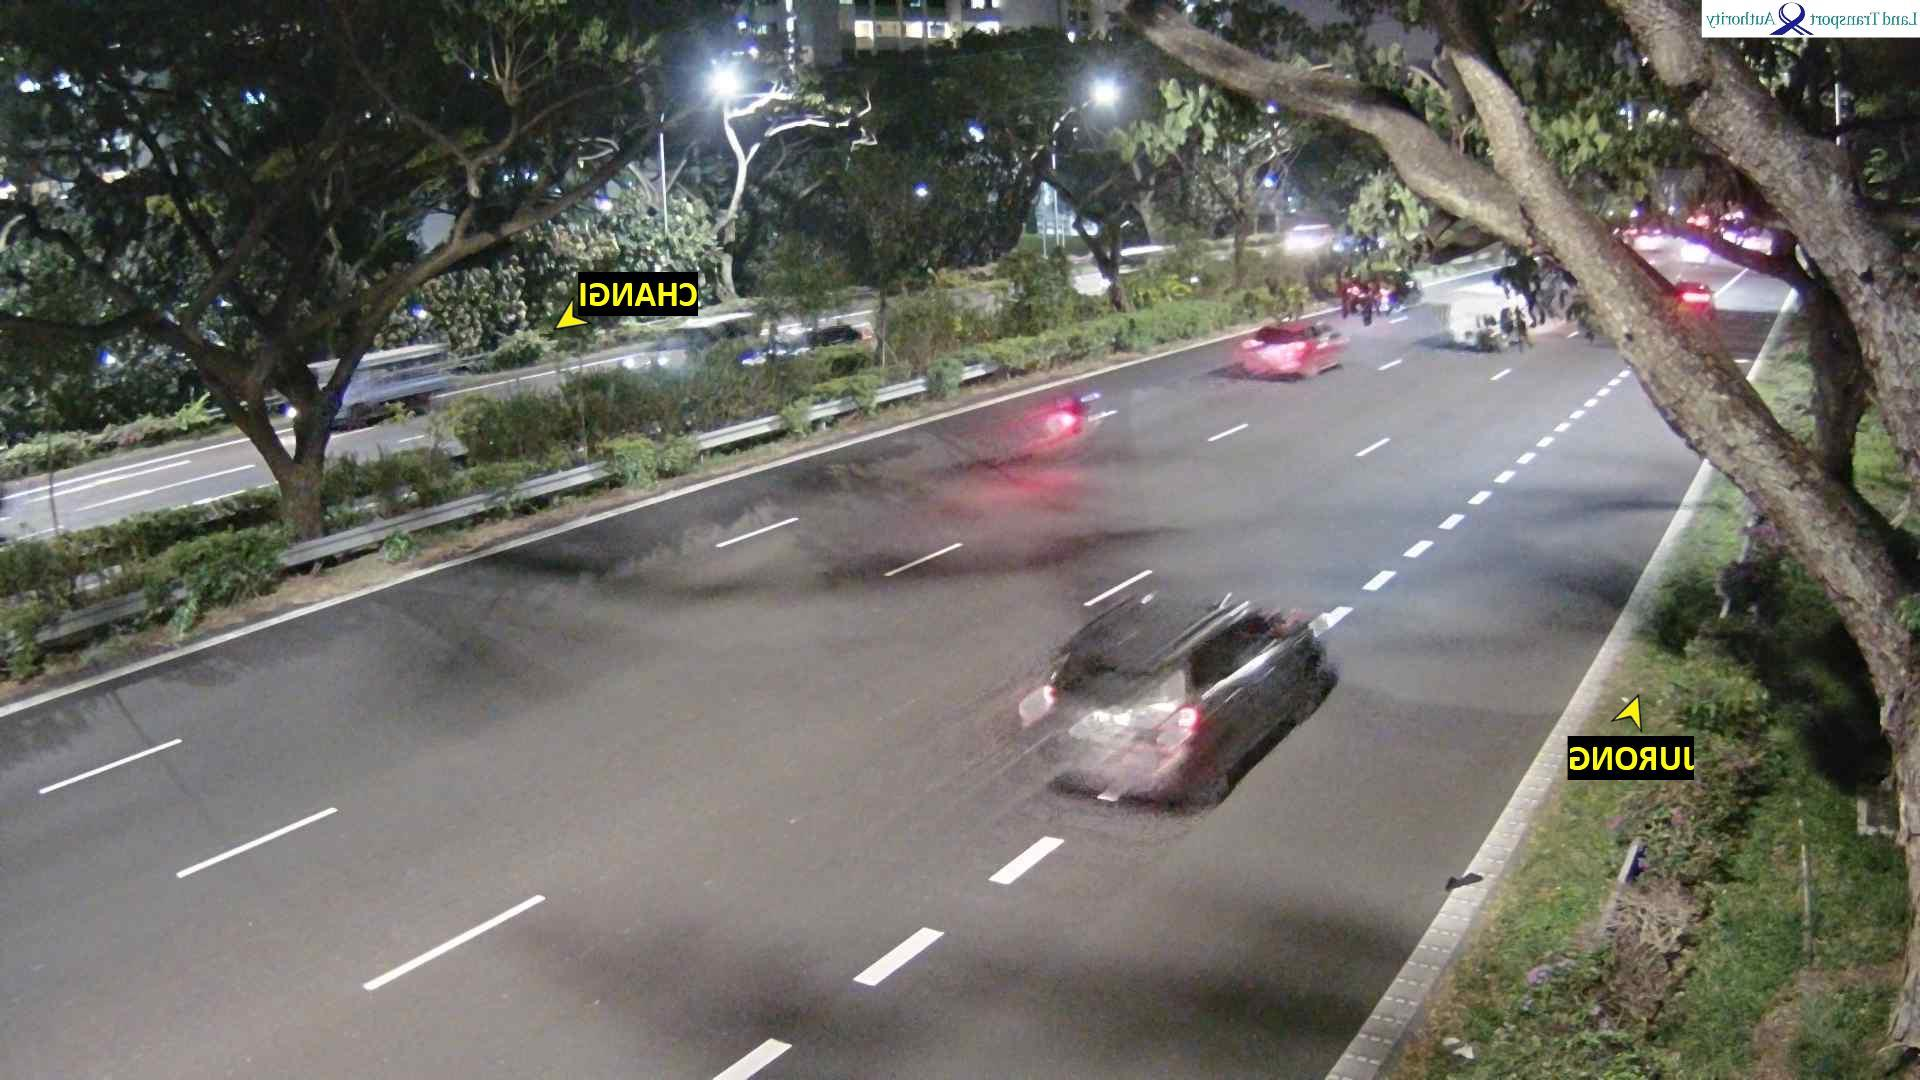cars: (1017, 585, 1338, 808), (1440, 272, 1544, 361), (1004, 388, 1105, 462), (1236, 318, 1352, 380), (741, 320, 866, 368), (1340, 268, 1422, 320), (621, 334, 699, 375), (924, 349, 1002, 385), (1672, 278, 1717, 319), (1283, 222, 1335, 256), (1619, 219, 1669, 252), (1333, 229, 1385, 256), (959, 353, 1001, 384), (1687, 207, 1716, 233)
trucks: (303, 340, 455, 429)
